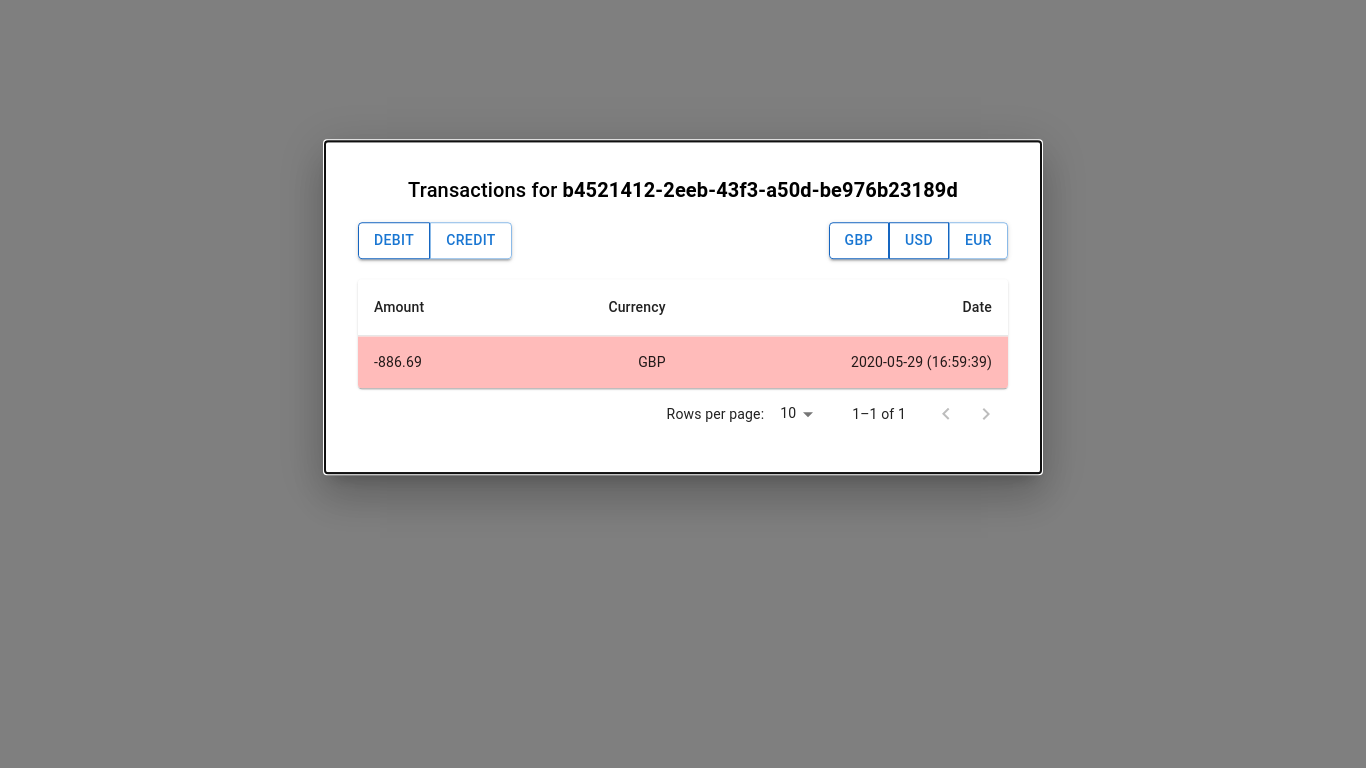
Test: set filter
Click the button "EUR" at (978, 241), box [949, 222, 1008, 259]
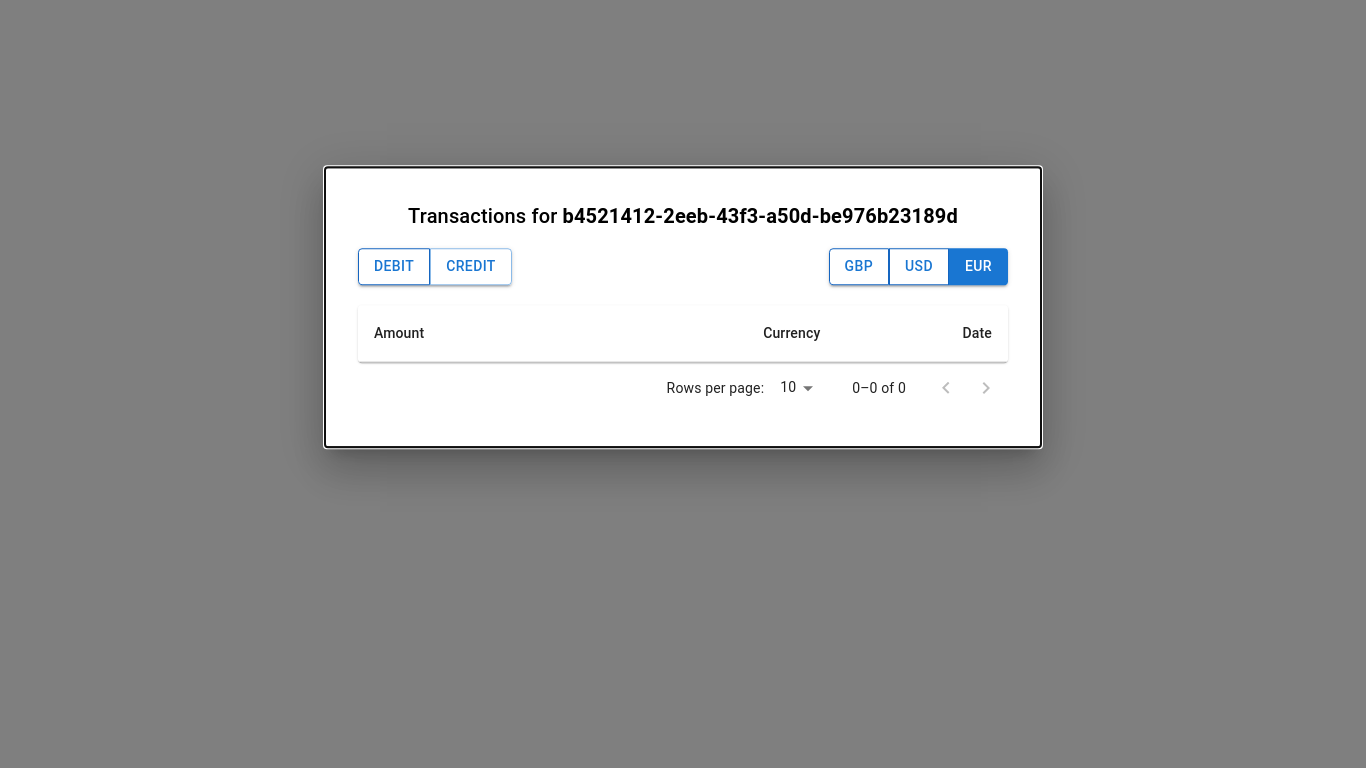
Expected: the column heading "886.69" is gone
